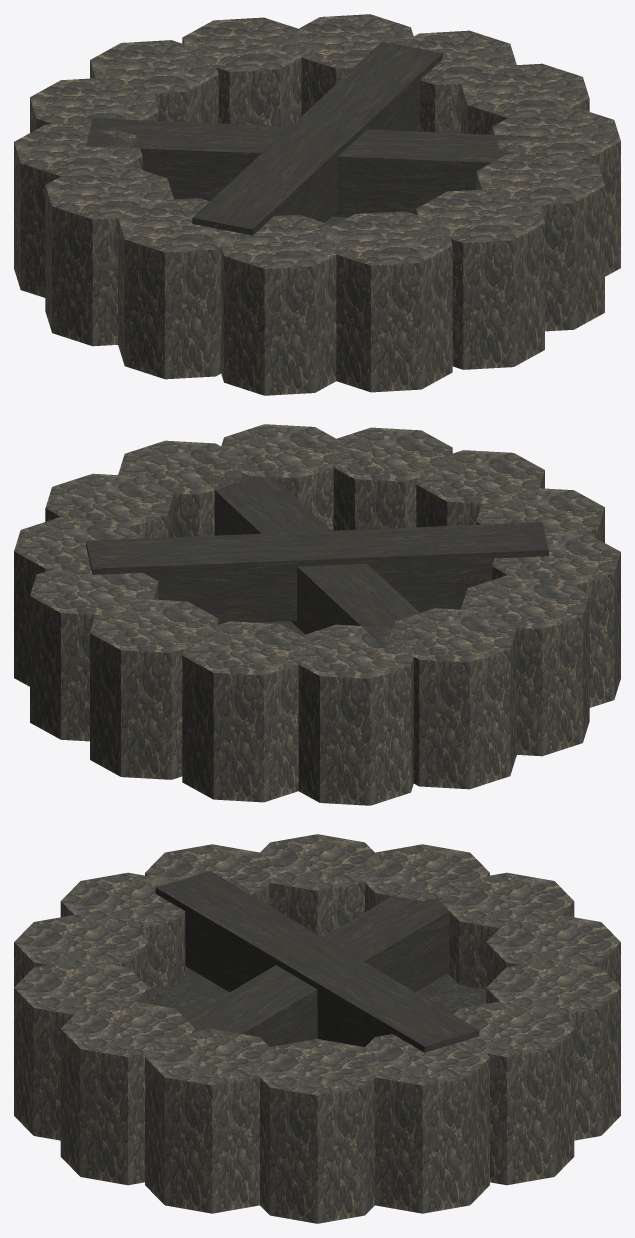
Rendered from PRP_FIREPIT_001.obj.
The picture shows the model from 3 angles, top to bottom: view 1: azimuth 30°, elevation 25°; view 2: azimuth 150°, elevation 25°; view 3: azimuth 270°, elevation 25°; orthographic projection.
Parts seen in each view (by area): view 1: CharredLogA, RingStone_5, RingStone_6, CharredLogB, RingStone_7, RingStone_4, RingStone_8, RingStone_3, RingStone_12, RingStone_9, RingStone_11, RingStone_2 (+4 smaller); view 2: CharredLogB, RingStone_11, RingStone_10, RingStone_9, RingStone_12, RingStone_8, CharredLogA, RingStone_13, RingStone_4, RingStone_7, RingStone_3, RingStone_5 (+4 smaller); view 3: CharredLogB, RingStone_1, RingStone_2, RingStone_14, RingStone_3, RingStone_13, CharredLogA, RingStone_12, RingStone_4, RingStone_8, RingStone_10, RingStone_6 (+5 smaller).
Part boxes in pixels (x1,y1,x2,y2): CharredLogA: (86, 118, 548, 217); RingStone_5: (324, 211, 452, 392); RingStone_6: (217, 214, 345, 395); CharredLogB: (192, 41, 442, 235); RingStone_7: (118, 198, 243, 379); RingStone_4: (416, 188, 544, 369); RingStone_8: (45, 165, 173, 346); RingStone_3: (476, 154, 604, 331); RingStone_12: (182, 17, 310, 126); RingStone_9: (14, 122, 142, 297); RingStone_11: (90, 40, 218, 123); RingStone_2: (492, 107, 620, 276); CharredLogB: (86, 522, 548, 623); RingStone_11: (182, 621, 310, 802); RingStone_10: (289, 624, 417, 805); RingStone_9: (388, 608, 516, 789); RingStone_12: (90, 598, 218, 779); RingStone_8: (461, 575, 589, 756); CharredLogA: (193, 458, 440, 645); RingStone_13: (30, 569, 158, 741); RingStone_4: (324, 427, 452, 530); RingStone_7: (492, 532, 620, 707); RingStone_3: (218, 424, 345, 530); RingStone_5: (416, 450, 544, 527); CharredLogB: (155, 871, 479, 1052); RingStone_1: (251, 1039, 384, 1223); RingStone_2: (145, 1028, 273, 1213); RingStone_14: (363, 1034, 489, 1213); RingStone_3: (60, 1000, 194, 1185); RingStone_13: (453, 1001, 574, 1185); CharredLogA: (181, 878, 475, 1049); RingStone_12: (486, 959, 620, 1140); RingStone_4: (14, 959, 148, 1140); RingStone_8: (253, 834, 383, 937); RingStone_10: (440, 872, 574, 989); RingStone_6: (60, 872, 190, 989).
Size of the model in its own units: 0.92 by 0.22 by 0.9019.
2 materials, 2 textured.
